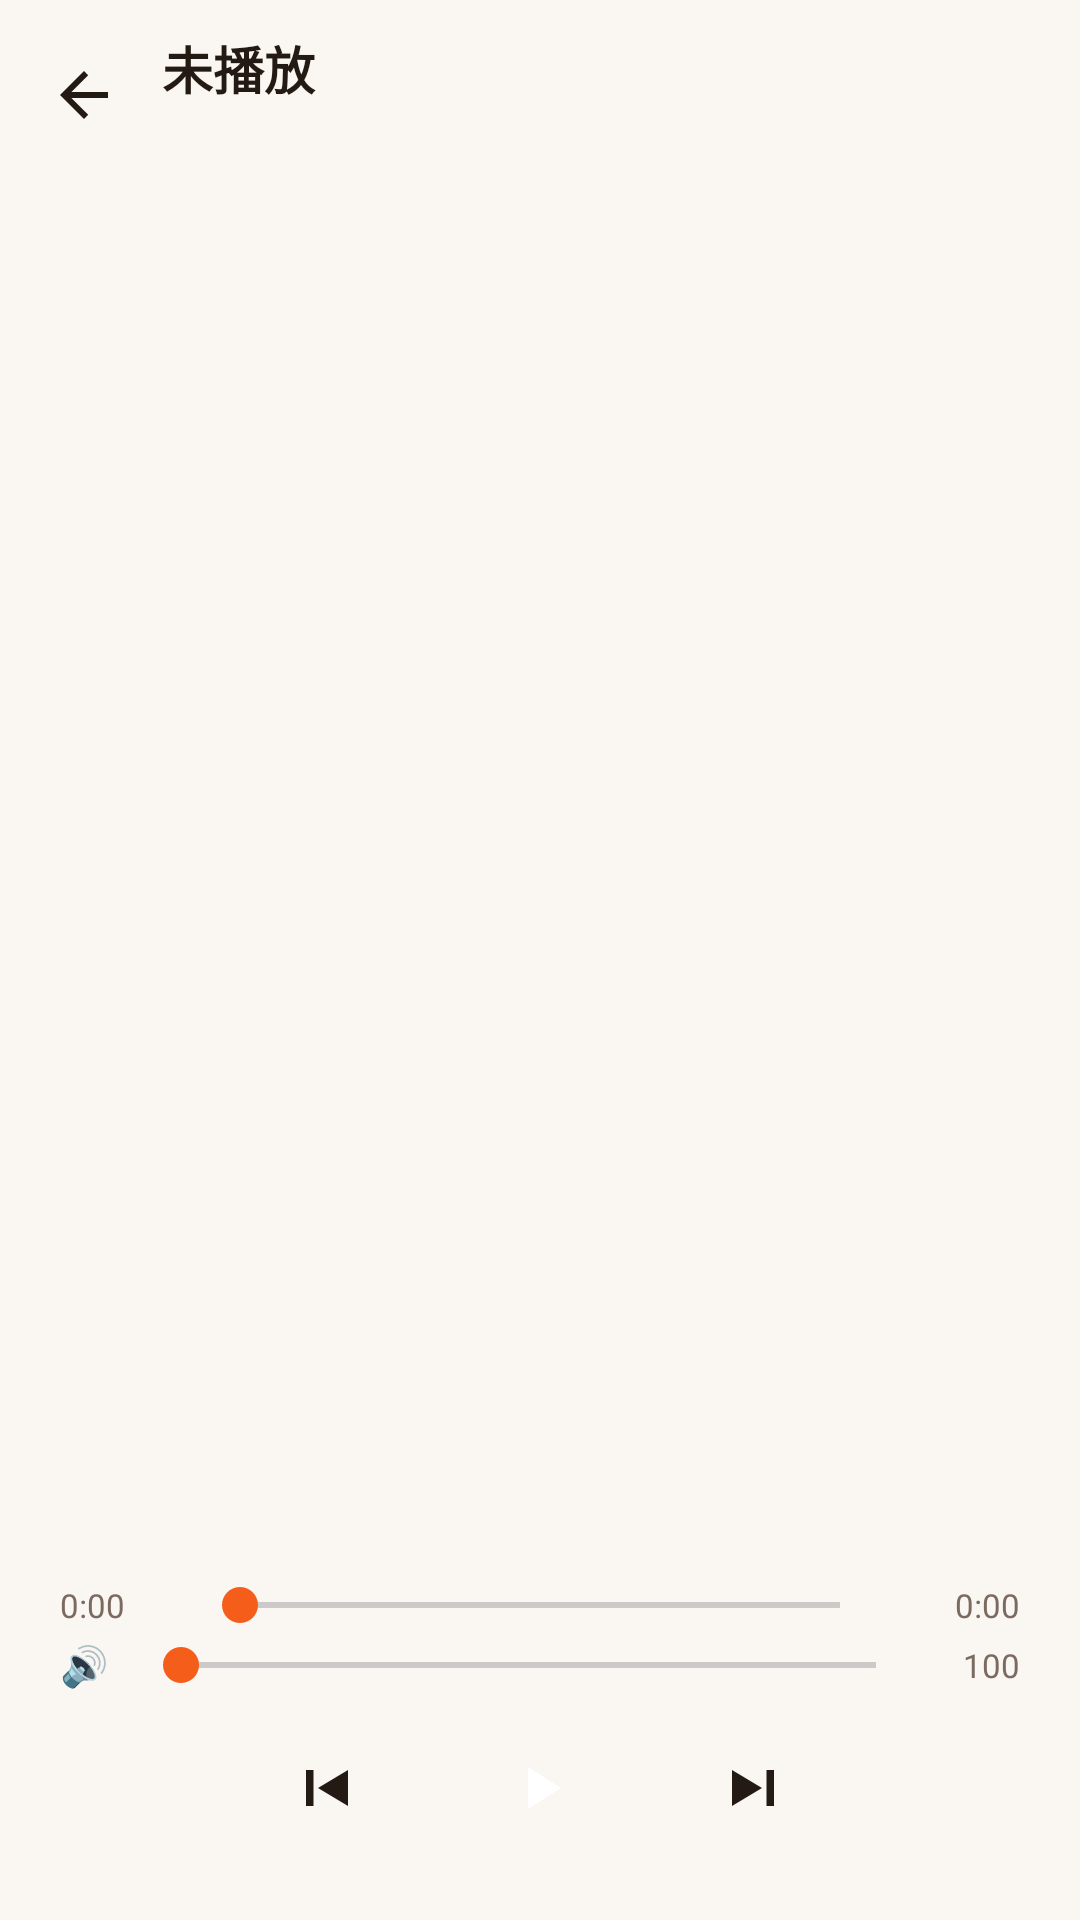

Named icons in this screenshot (1080px×1920px) and their bounding boxes, [x1=x1, y1=y1, x2=x2, y2=y2]:
上一首: [x1=306, y1=1770, x2=348, y2=1806]
下一首: [x1=732, y1=1770, x2=774, y2=1806]
返回: [x1=60, y1=71, x2=108, y2=119]
